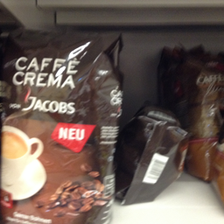chocolate: (1, 31, 122, 223)
